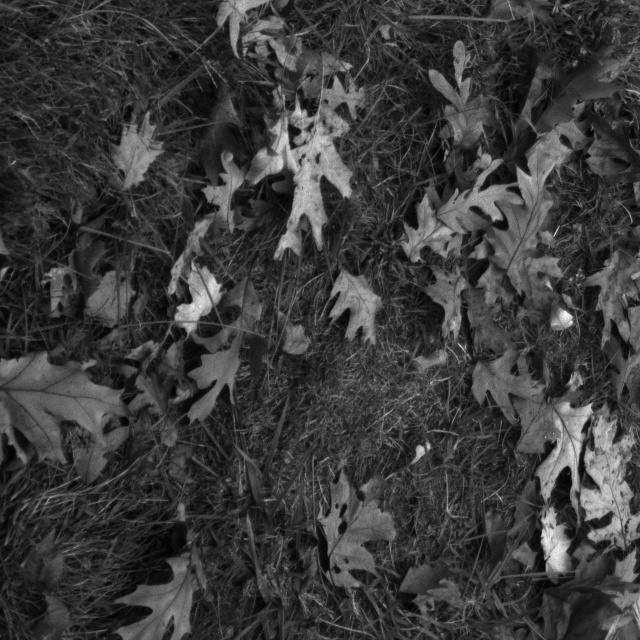container: (518, 510, 640, 640)
